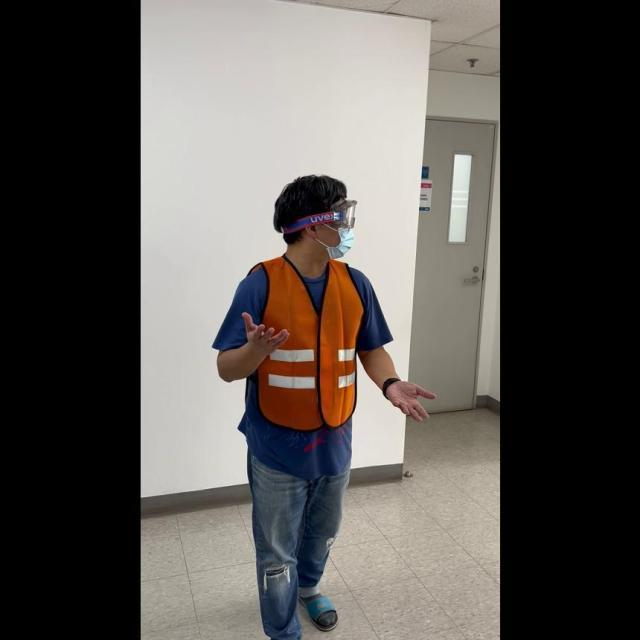bare_hand: (235, 304, 287, 365), (382, 377, 433, 423)
